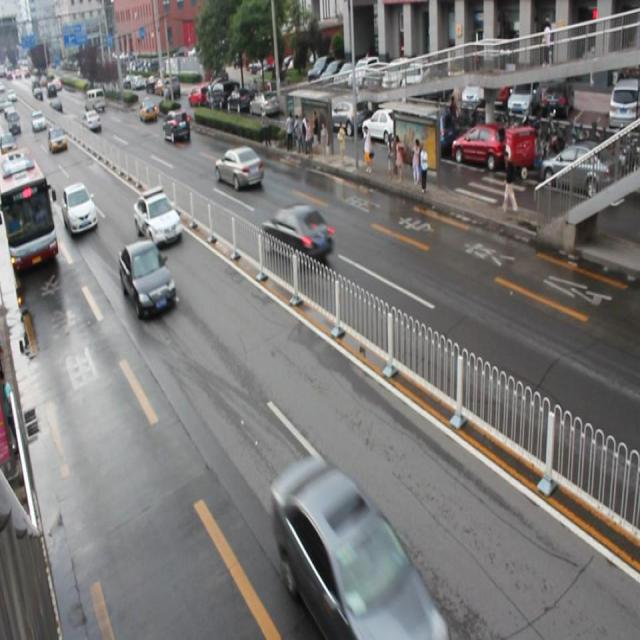car: (271, 460, 441, 640), (261, 204, 334, 268), (119, 238, 176, 317), (133, 188, 183, 245), (61, 181, 98, 235), (215, 146, 262, 188), (162, 108, 191, 144)
van: (1, 149, 60, 268)
